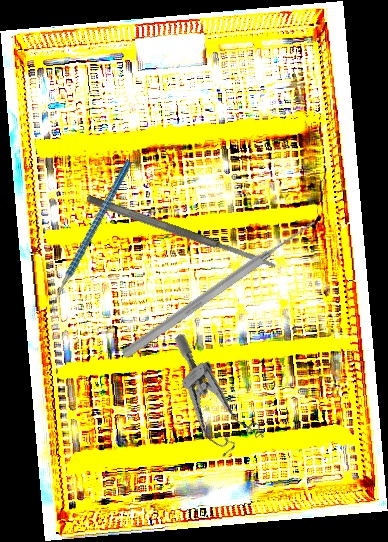Chopper: (8, 158, 176, 321)
Pusher: (119, 215, 320, 362)
Spatula Surgical: (85, 192, 279, 273)
Speculum: (140, 332, 274, 467)
